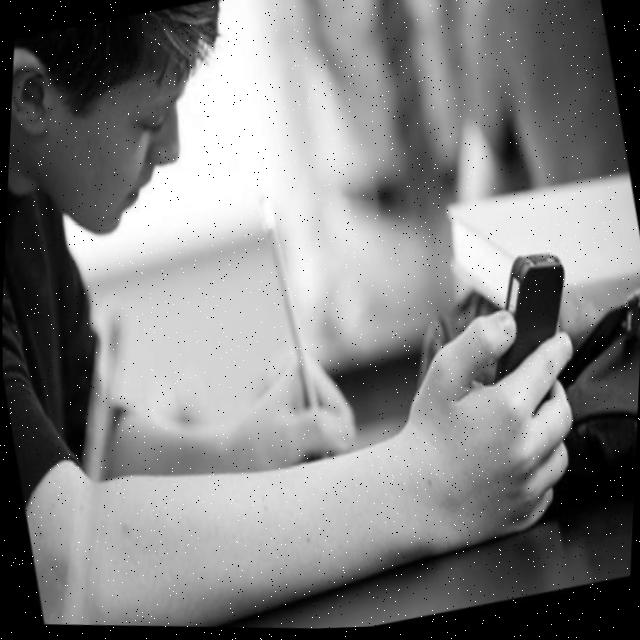phone: (467, 244, 588, 395)
